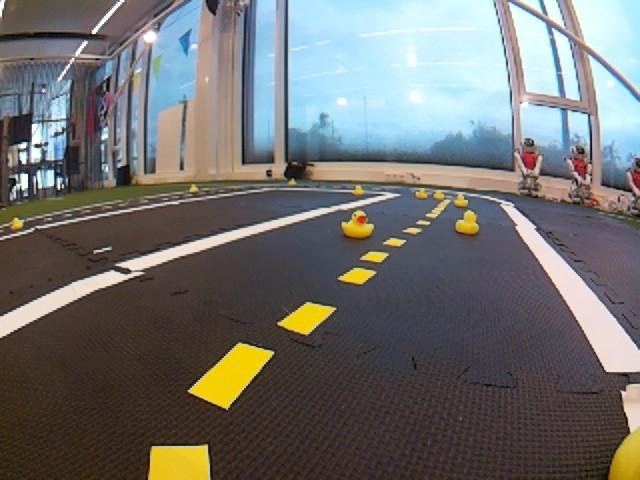Duckies: (341, 210, 375, 238), (454, 210, 479, 236), (453, 194, 469, 207), (11, 217, 23, 229), (352, 186, 364, 195), (415, 189, 427, 198), (434, 192, 444, 199), (190, 184, 199, 191), (288, 179, 297, 185)
